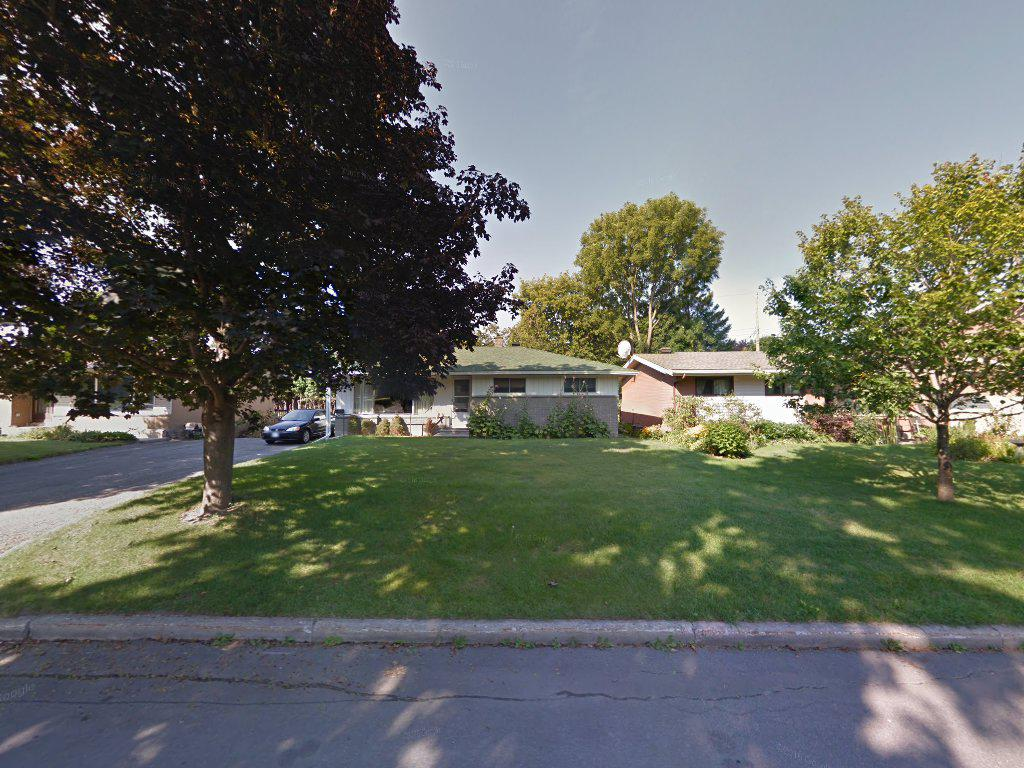trunk: (197, 348, 238, 540), (929, 380, 958, 511)
